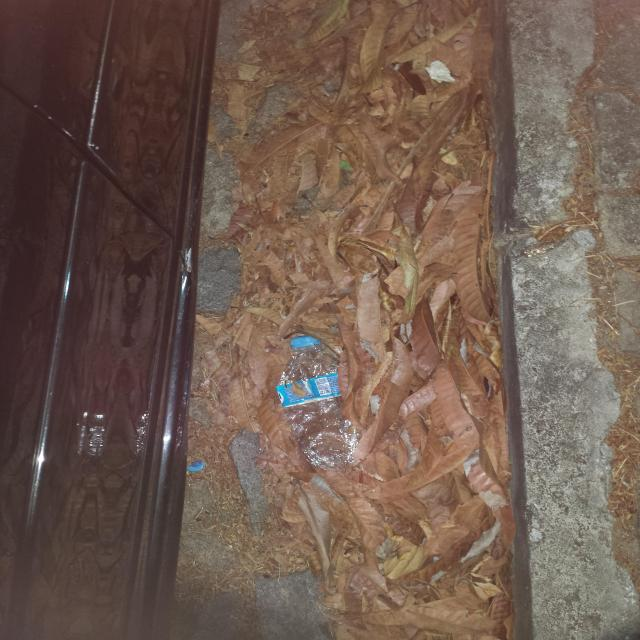litter: (273, 329, 372, 470), (193, 449, 210, 472)
